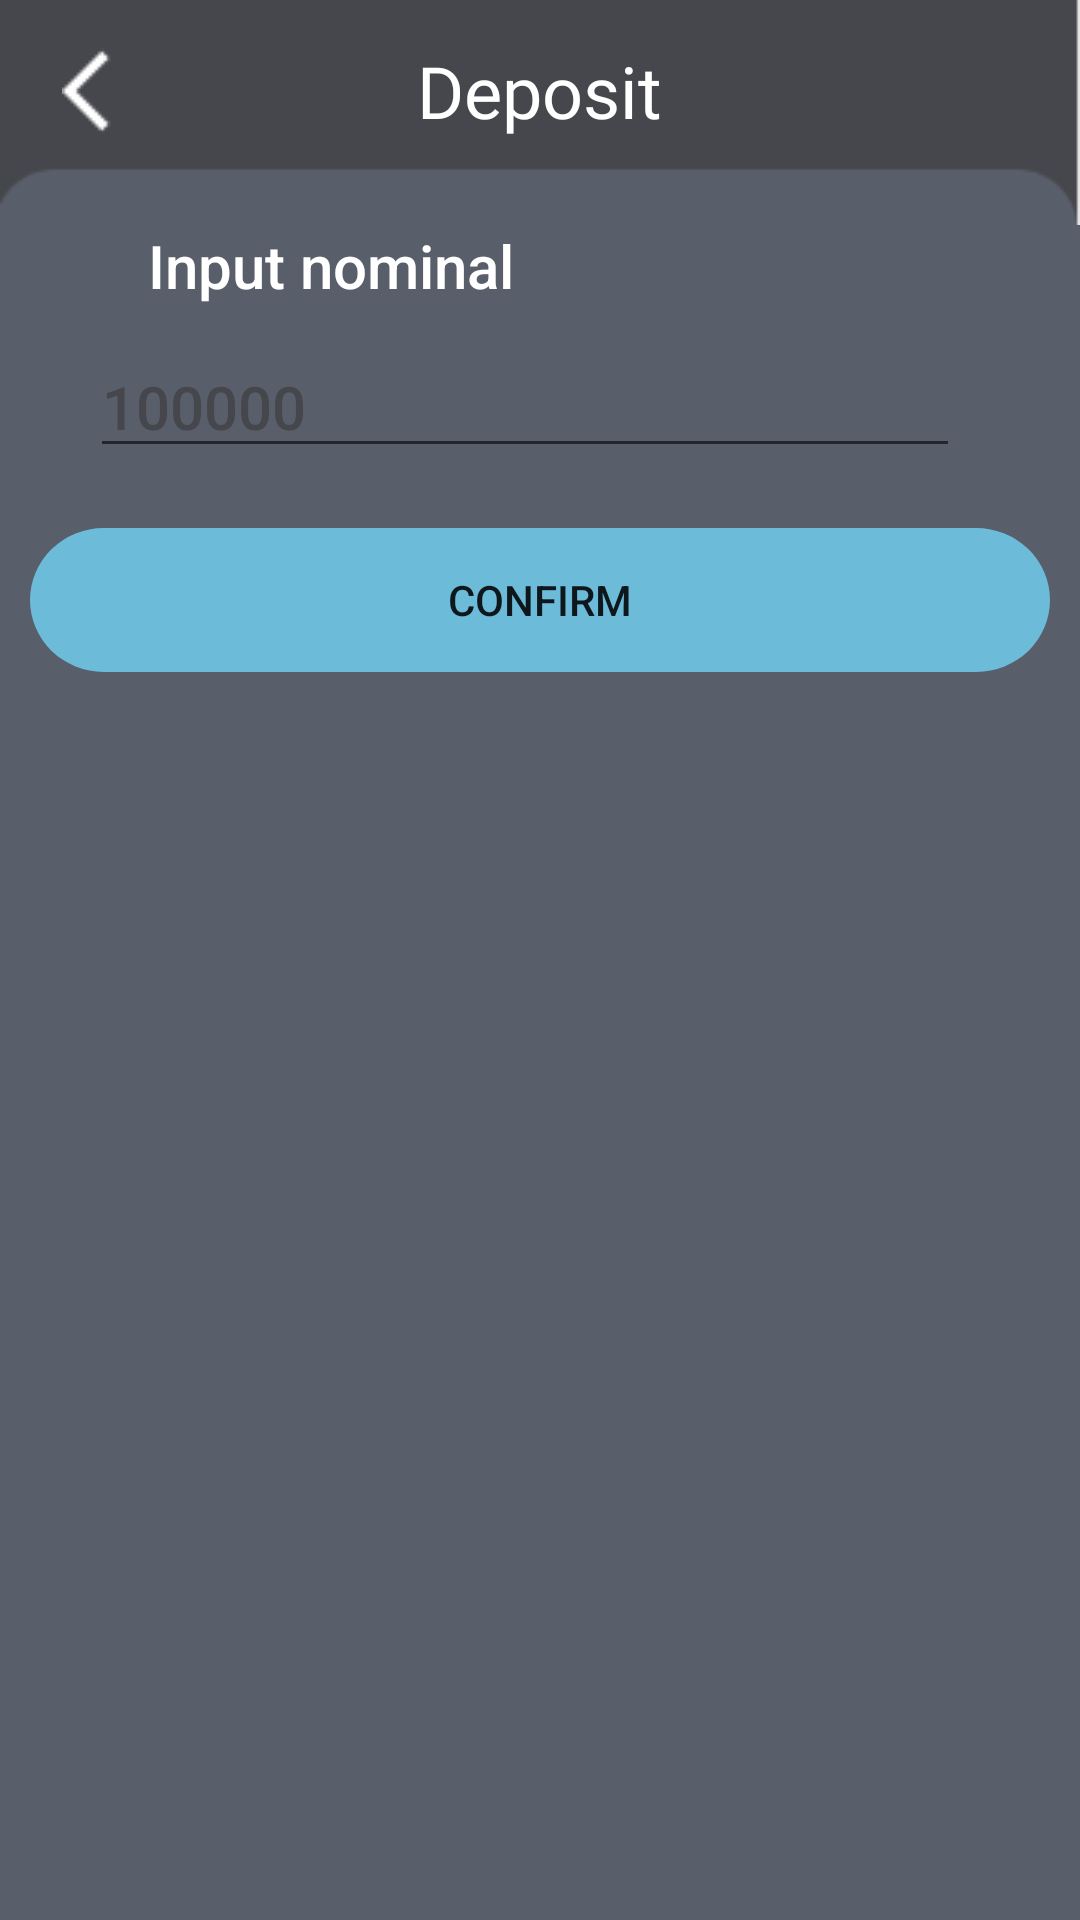

Screen size 1080w x 1920h. Icon name, then its center in pixels as [x,y]:
back trade: [85,91]
